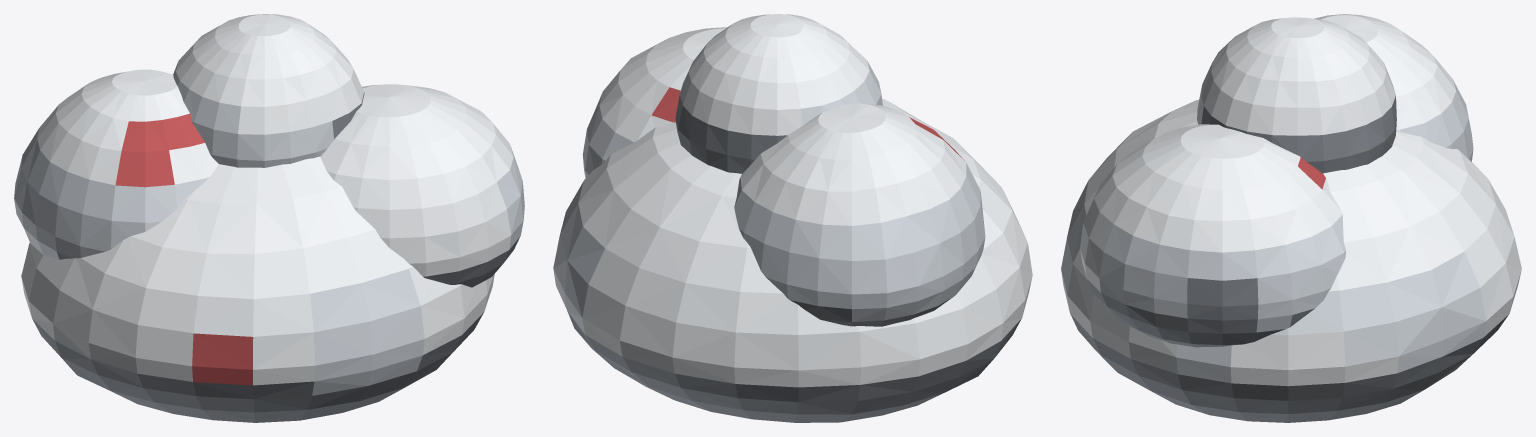
File: Bush.obj
3 views of the same model, side by side, from view 1: azimuth 30°, elevation 25°; view 2: azimuth 150°, elevation 25°; view 3: azimuth 270°, elevation 25° (orthographic). The views are drawn at different scales.
Bounding box in the file's own units: 2.63 × 2.15 × 2.46.
